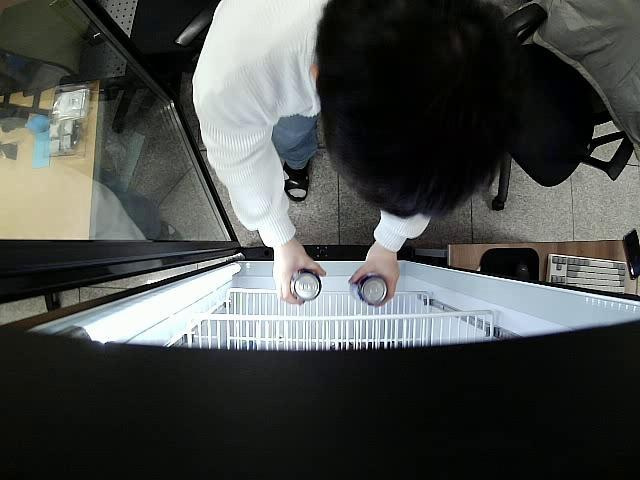14_welchsGrape: (356, 274, 389, 306), (290, 270, 322, 302)
